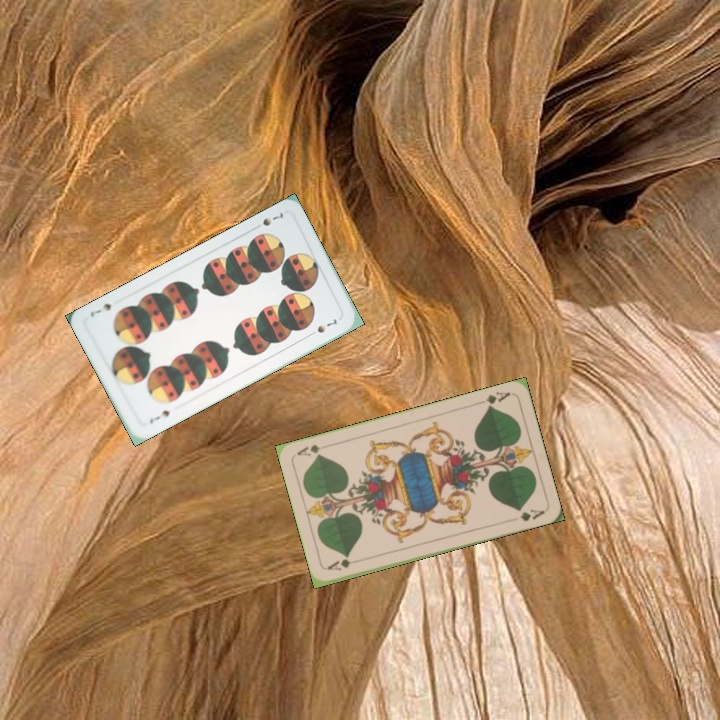GA: (474, 388, 513, 411), (323, 555, 364, 574)
S7: (249, 208, 286, 232), (145, 406, 172, 426)
